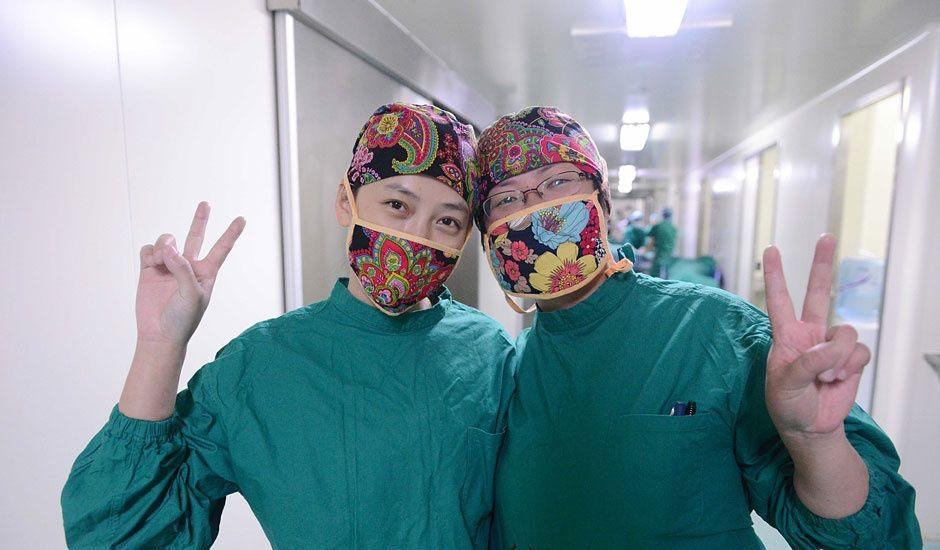OK: (485, 167, 612, 294), (351, 183, 470, 302)
